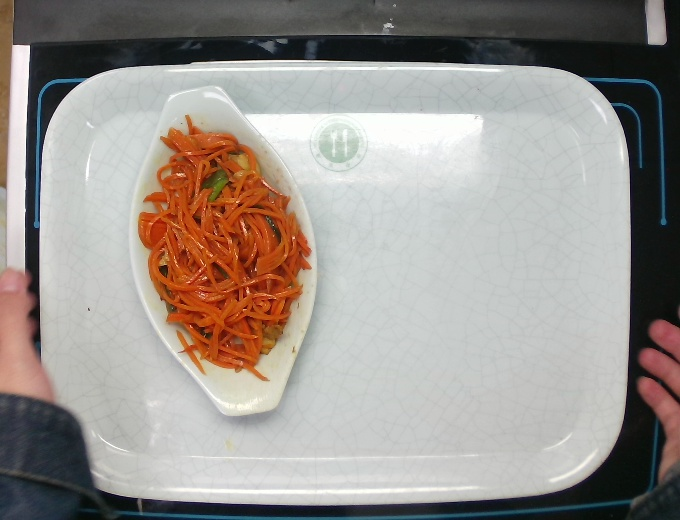JYsf-Yu_Pan: (116, 80, 325, 421)
